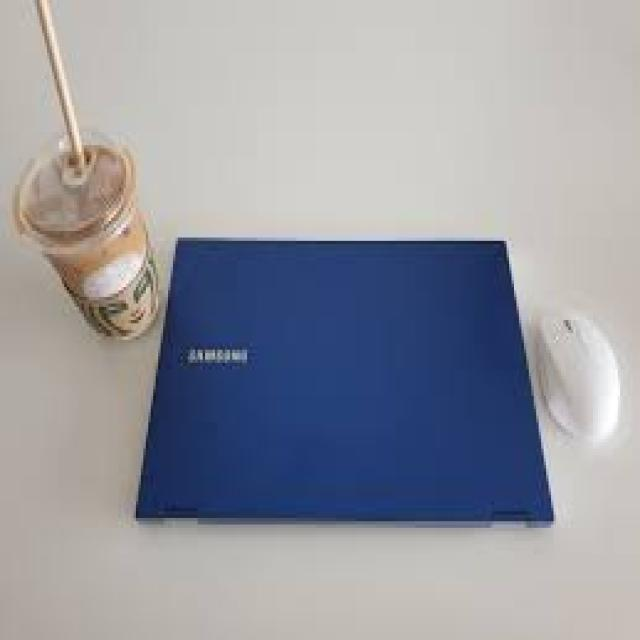laptop: (134, 236, 555, 527)
